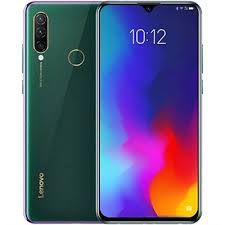lenovo: (20, 1, 206, 223), (92, 1, 205, 225), (22, 1, 99, 222)
